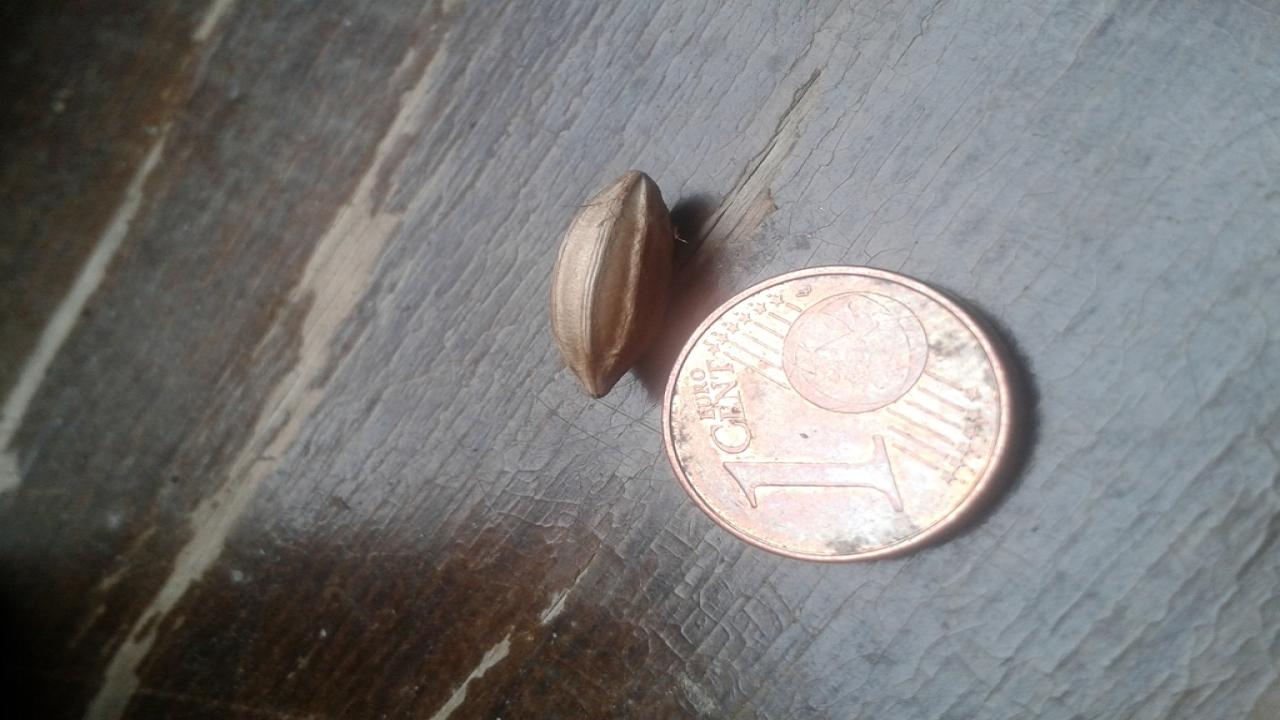coin: (659, 262, 1025, 564)
